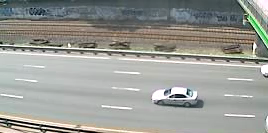car: (149, 86, 200, 109)
